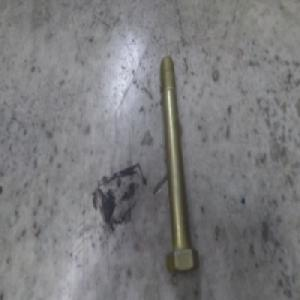Bolt: (159, 50, 199, 270)
